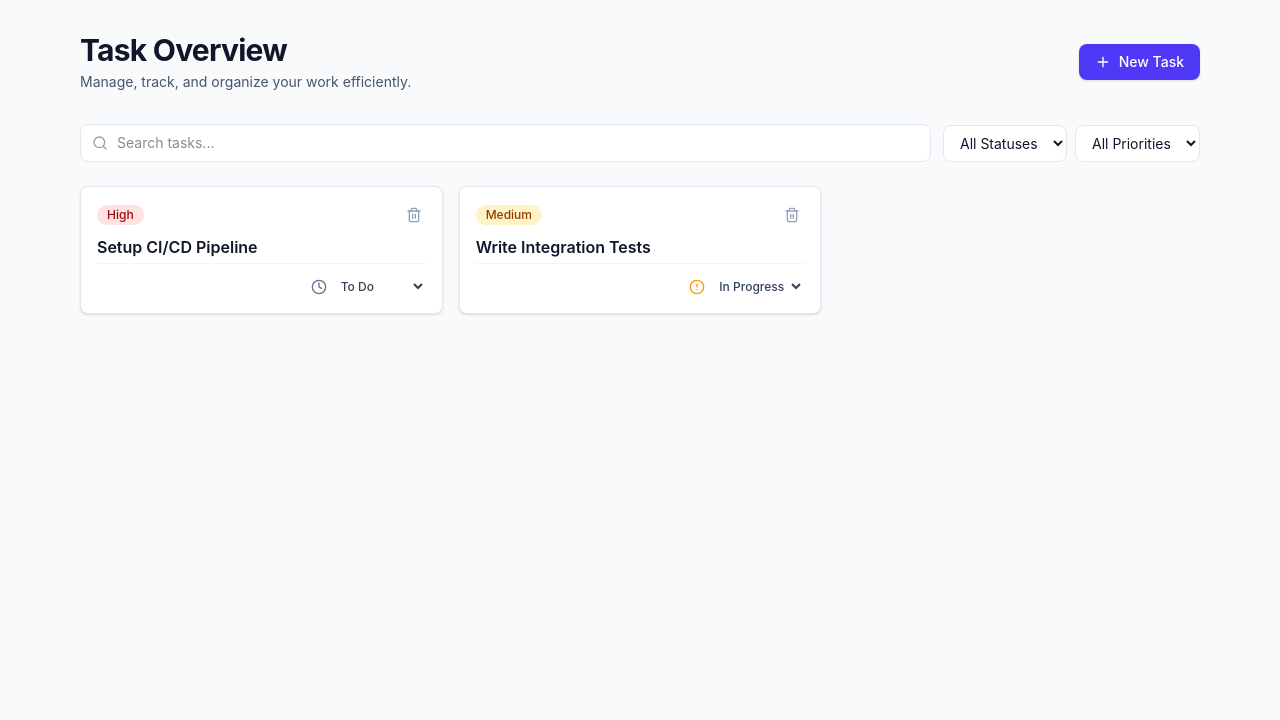
<TaskPage /> › submits new task through TaskForm modal and closes modal
This screenshot has width=1280, height=720.
Note: Open Modal
Click the button "New Task" at x=1139, y=62, box [1079,44,1200,80]
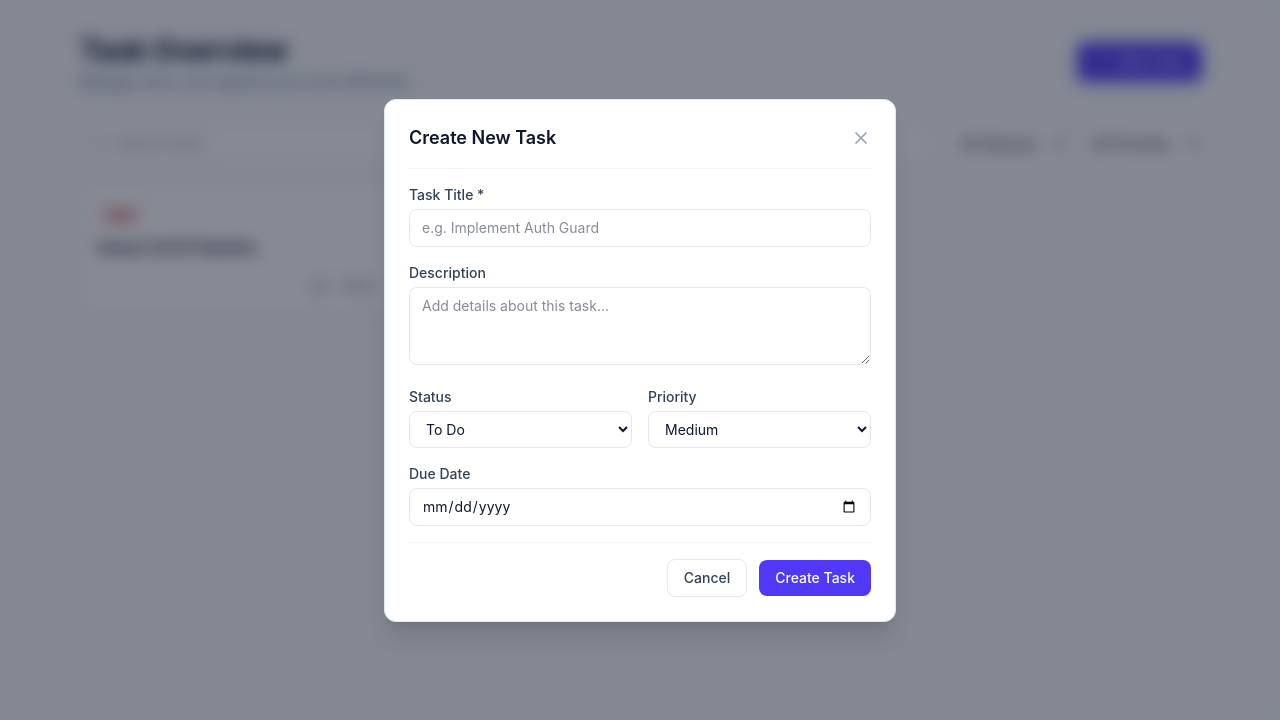
Note: Fill Title
Type "New Created Task" into the field with placeholder "e.g. Implement Auth Guard" at x=640, y=228, box [409,208,871,246]
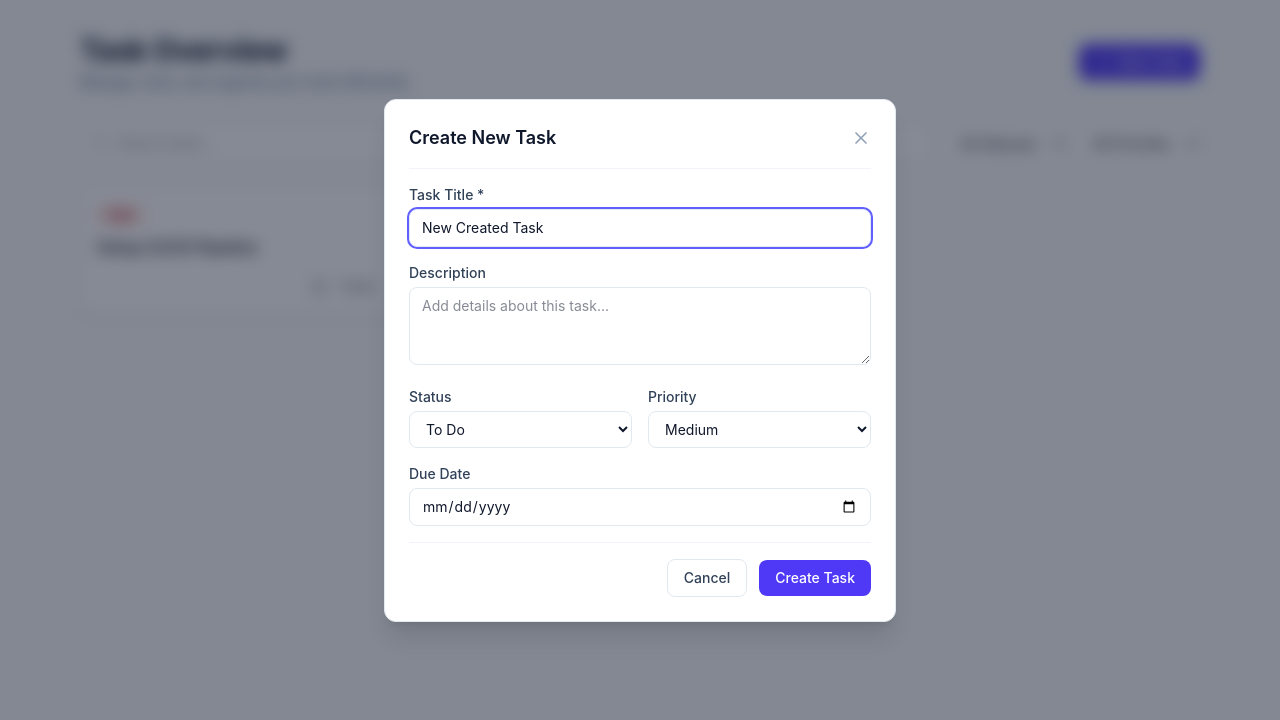
Click the button "Create Task" at x=815, y=578, box [759,560,871,596]
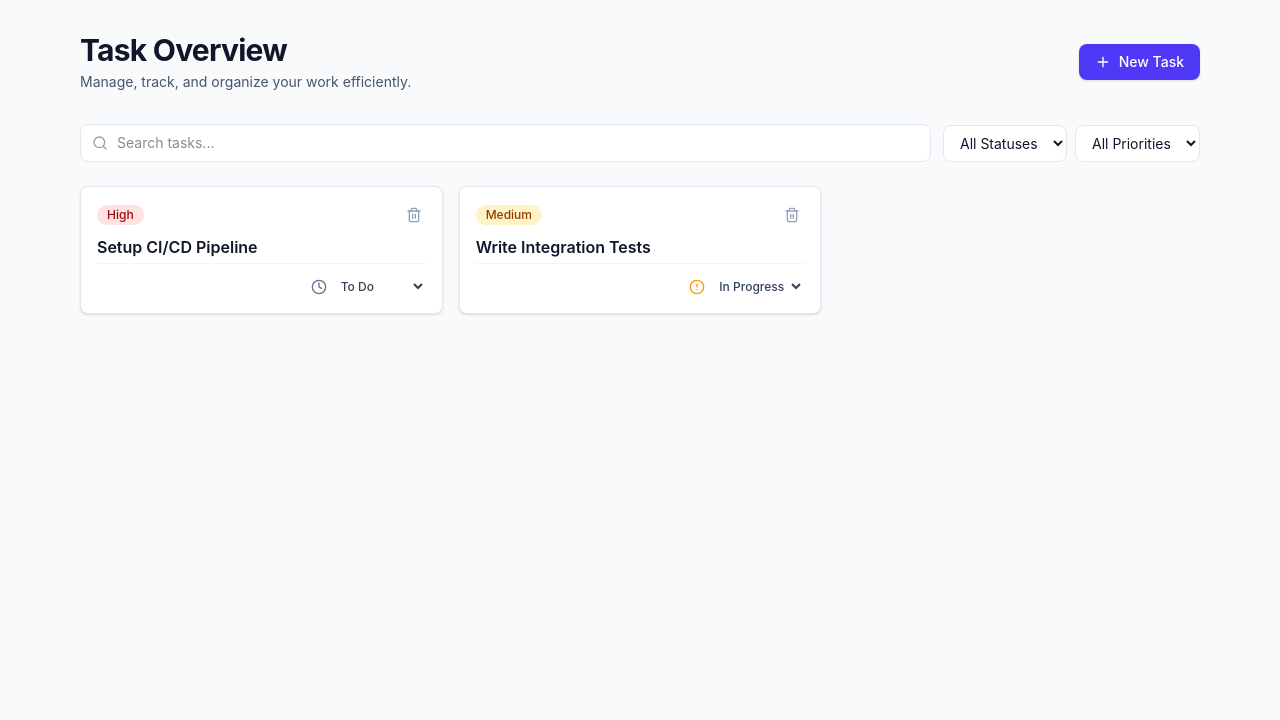
Check: the heading "Create New Task" is gone
